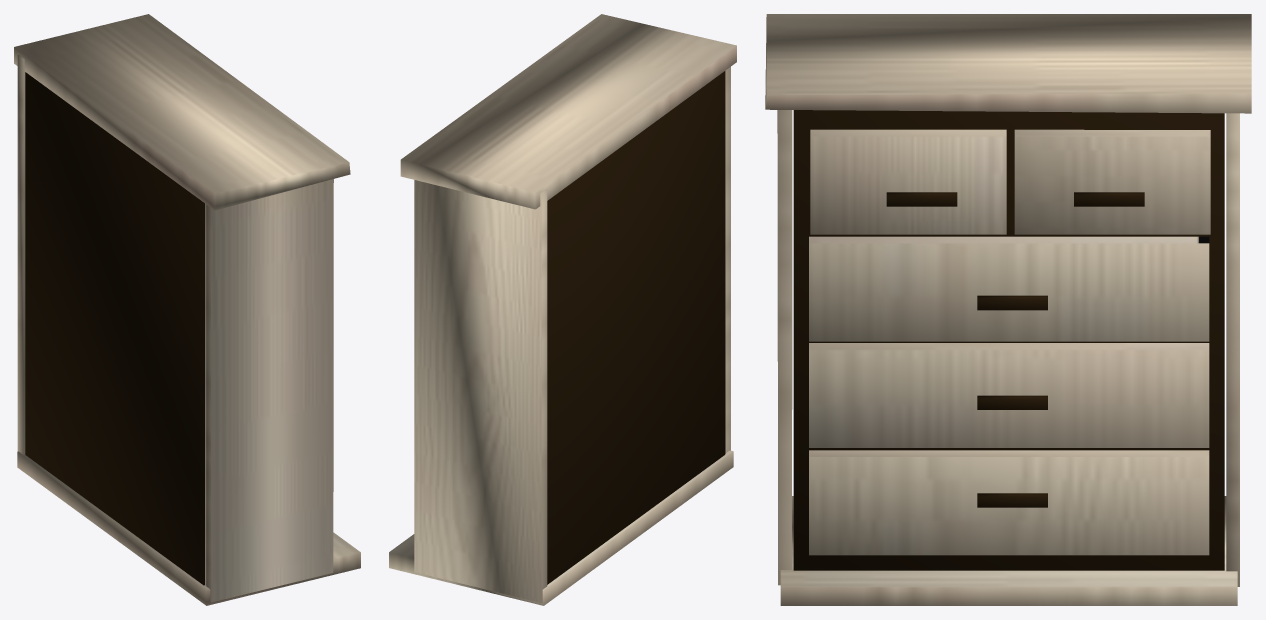
Rendered from DressingTable_Model.fbx.
3 renders of one model, left to right at view 1: azimuth 30°, elevation 25°; view 2: azimuth 150°, elevation 25°; view 3: azimuth 270°, elevation 25°, orthographic. The views are drawn at different scales.
Visible parts, largest first — view 1: Dressing Table; view 2: Dressing Table; view 3: Dressing Table.
Part boxes in pixels (x1,y1,x2,y2): Dressing Table: [14, 14, 360, 605]; Dressing Table: [389, 14, 736, 605]; Dressing Table: [765, 14, 1251, 605].
Size of the model in its own units: 163 by 420 by 368.
